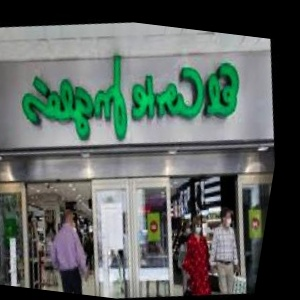corte_ingles: (234, 47, 275, 74)
